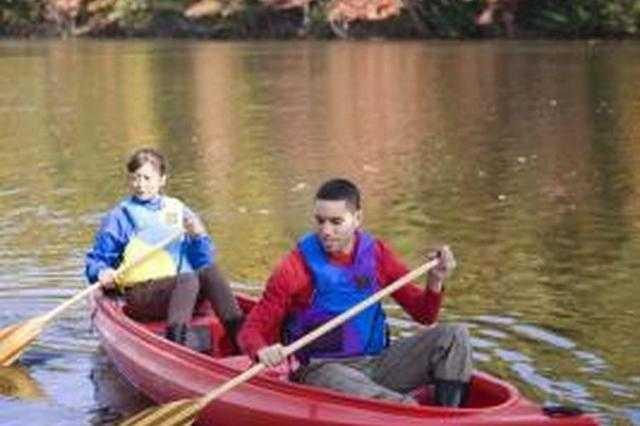kayak: (89, 286, 604, 423), (0, 306, 64, 401)
